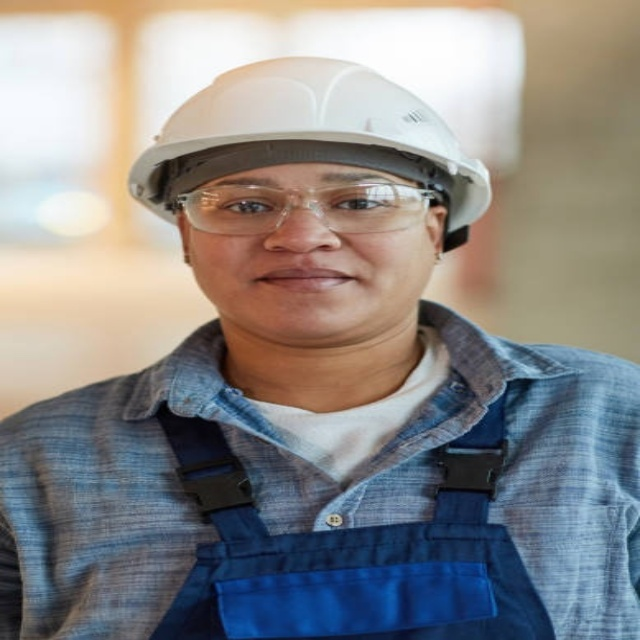Gafas: (174, 183, 440, 235)
Sin_mascara: (243, 259, 360, 319)
